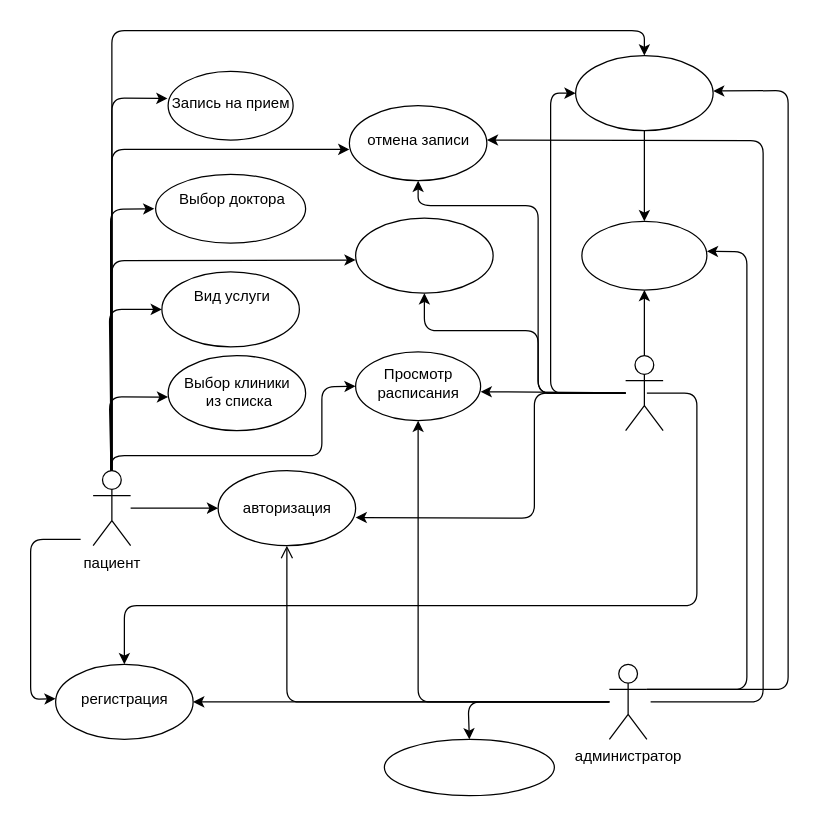
Image size: 820x818. Some labels were removed from this diagram. The shapes that lost their labels are listed below. From the top down, each one's box as (x1, y1, x2, y2) in pixels, then its label:
(574, 54, 713, 131): перенос записи
(354, 217, 493, 293): прием
(581, 220, 707, 290): Изменение расписания
(624, 354, 663, 431): доктор
(383, 738, 554, 796): Назначение прав пользователей
